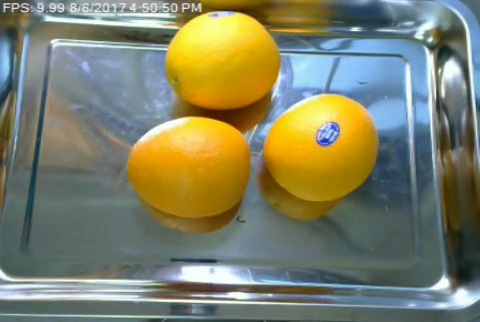Orange: (261, 94, 379, 201), (128, 115, 250, 216), (165, 10, 283, 108)
